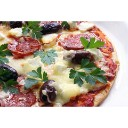pepperonipizza: (1, 21, 118, 108)
